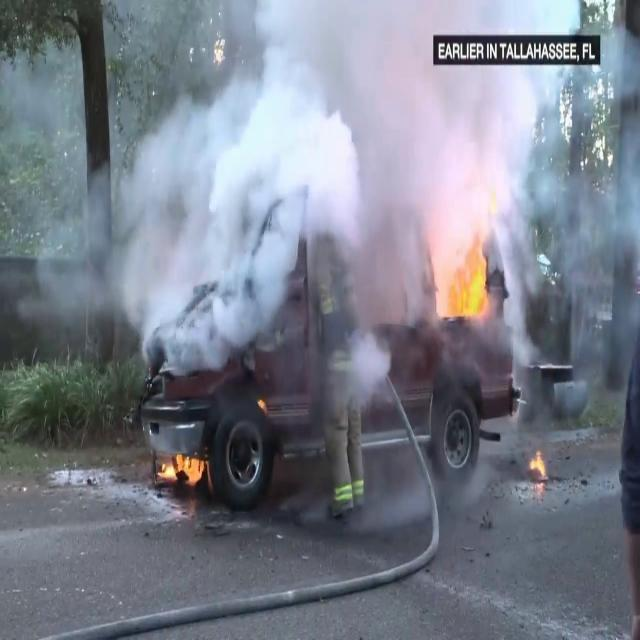Fire: (442, 232, 492, 326), (158, 438, 208, 492), (526, 441, 548, 487)
Smoke: (31, 0, 638, 350)
